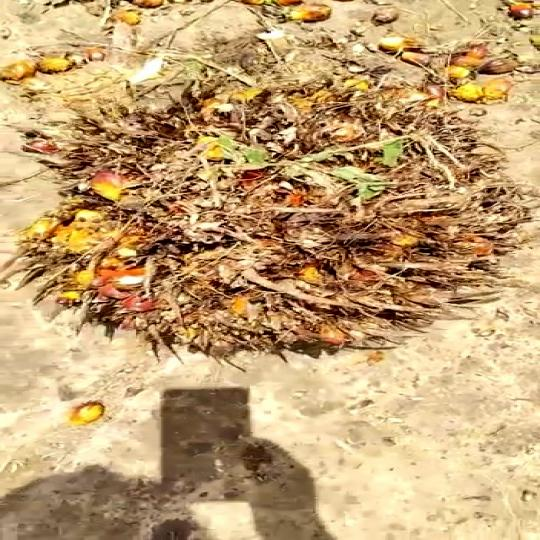terlalu masak: (4, 78, 540, 366)
